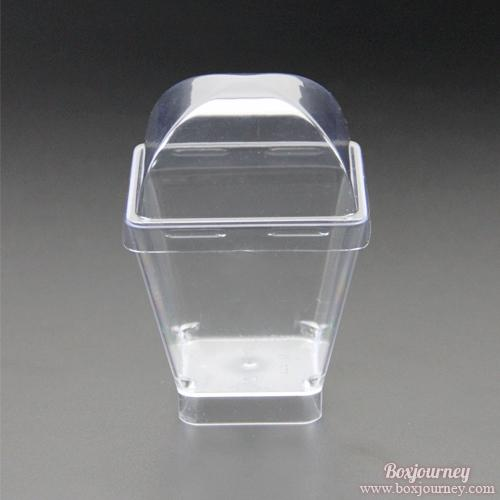plastic_bottle: (115, 68, 383, 436)
